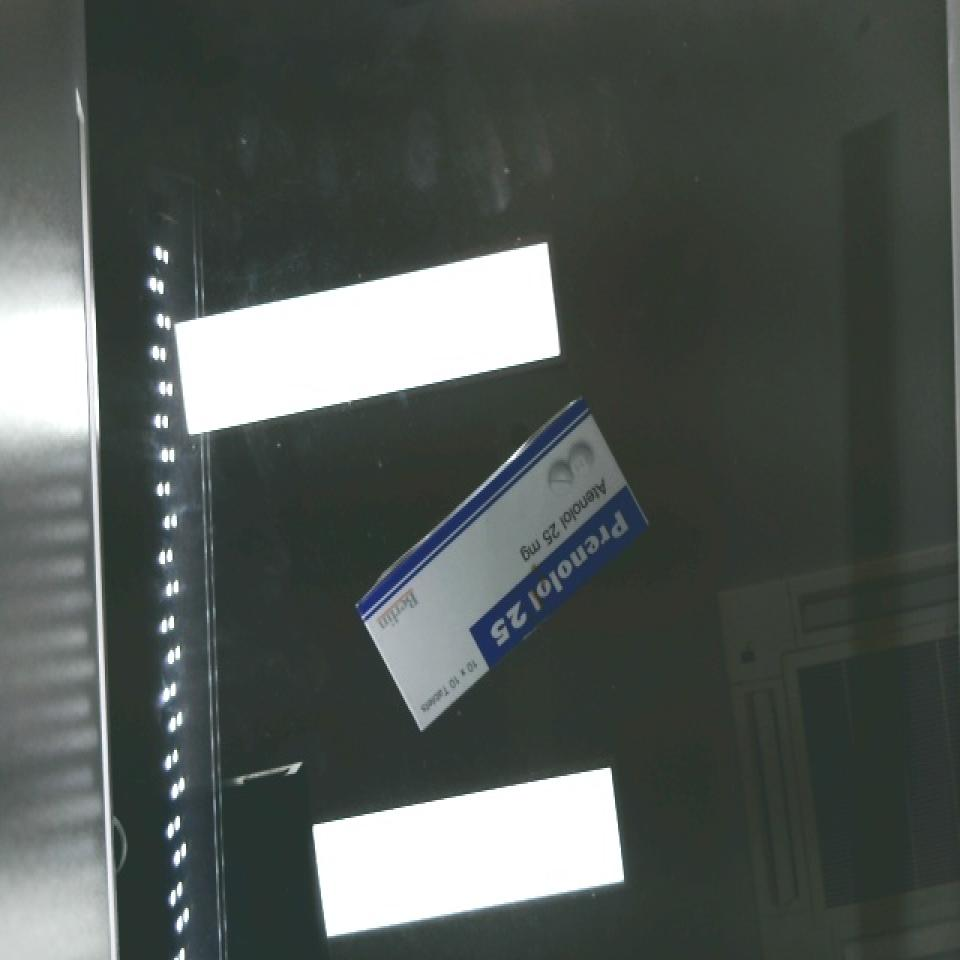medicine_box: (324, 395, 675, 732)
medicine_label_obb: (462, 487, 651, 666)
